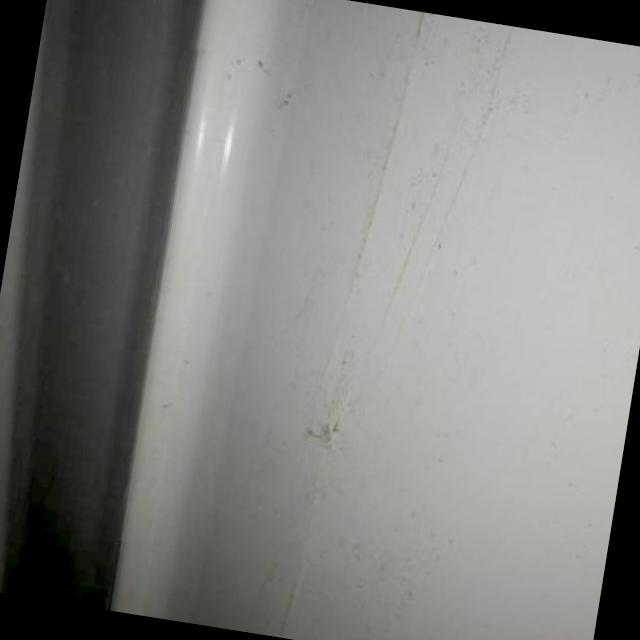crack: (352, 11, 426, 292), (281, 580, 298, 640), (302, 419, 339, 446)
